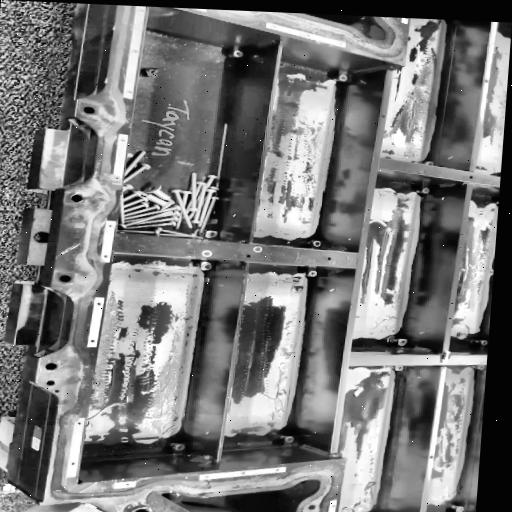b_casing: (6, 2, 512, 512)
